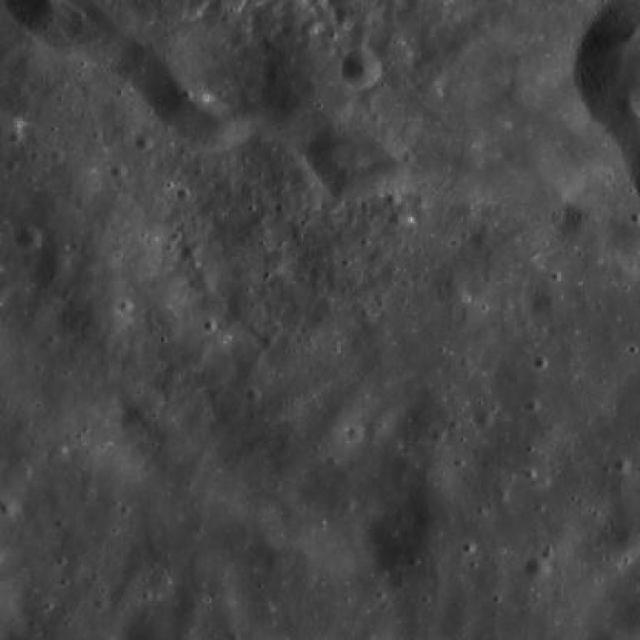crater: (559, 194, 607, 242), (468, 554, 510, 596), (341, 48, 381, 88), (34, 252, 71, 288), (533, 288, 564, 318), (14, 226, 40, 252), (524, 556, 550, 581), (613, 456, 632, 474), (133, 134, 152, 152), (346, 423, 364, 442), (0, 497, 17, 517), (474, 410, 492, 428), (110, 162, 126, 178), (430, 428, 447, 443), (533, 354, 549, 369)
